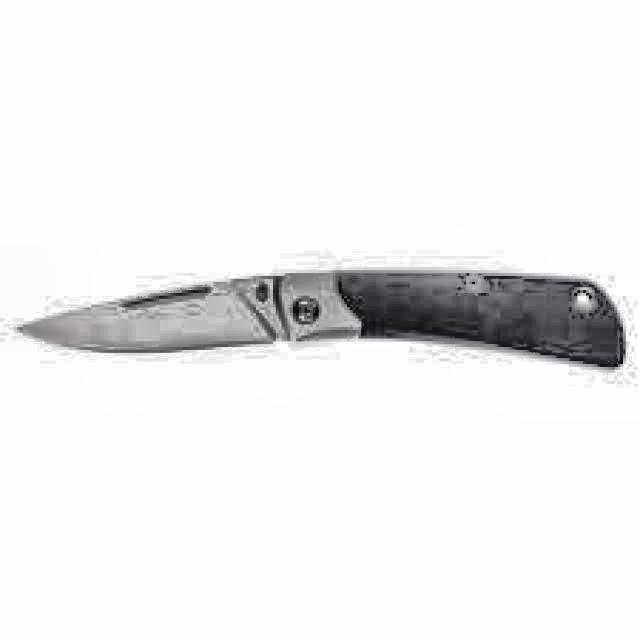knife: (17, 262, 633, 374)
